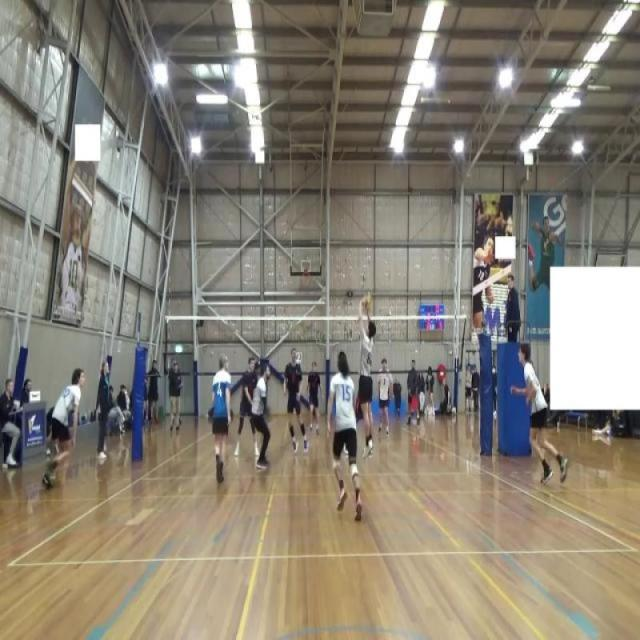volleyball: (361, 292, 374, 313)
